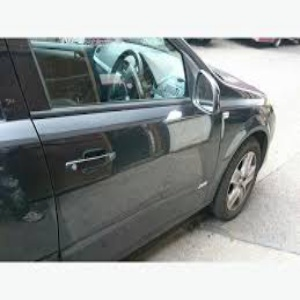door_scratch: (1, 168, 58, 232)
